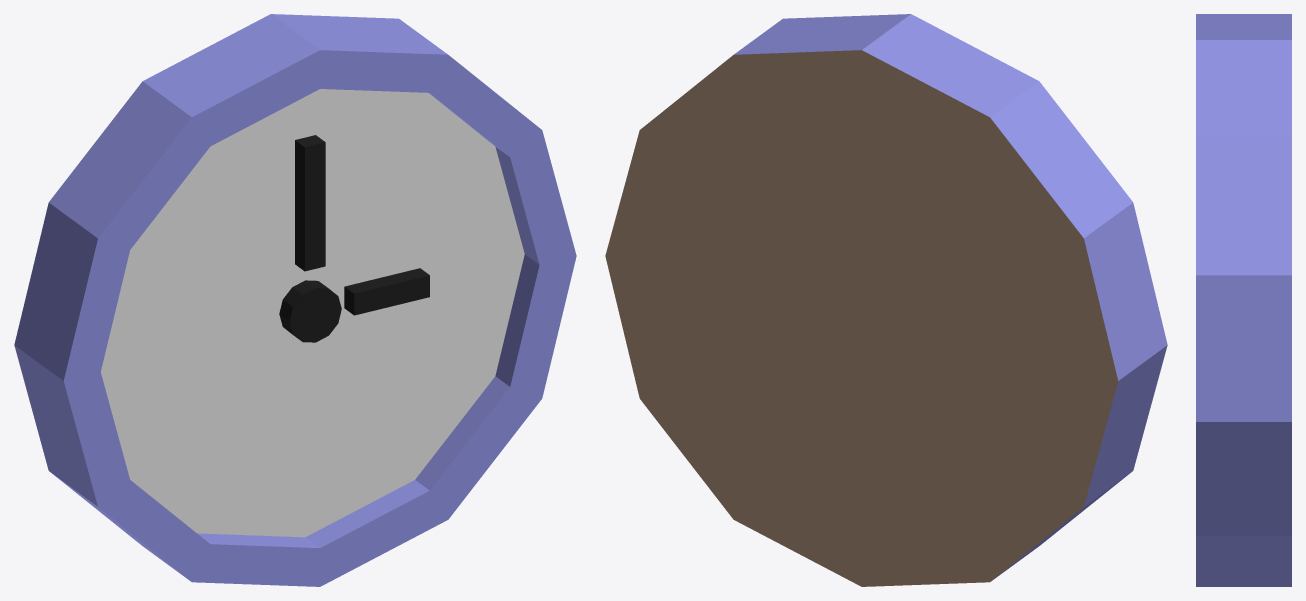
Rendered from Jam.fbx.
The picture shows the model from 3 angles, left to right: view 1: azimuth 30°, elevation 25°; view 2: azimuth 150°, elevation 25°; view 3: azimuth 270°, elevation 25°; orthographic projection. The views are drawn at different scales.
Parts seen in each view (by area): view 1: Cube.005; view 2: Cube.005; view 3: Cube.005.
Boxes of the visible parts, x1=… form: Cube.005: x1=14, y1=14, x2=576, y2=586; Cube.005: x1=605, y1=14, x2=1167, y2=586; Cube.005: x1=1196, y1=14, x2=1291, y2=586.
Size of the model in its own units: 60 by 60 by 10.
